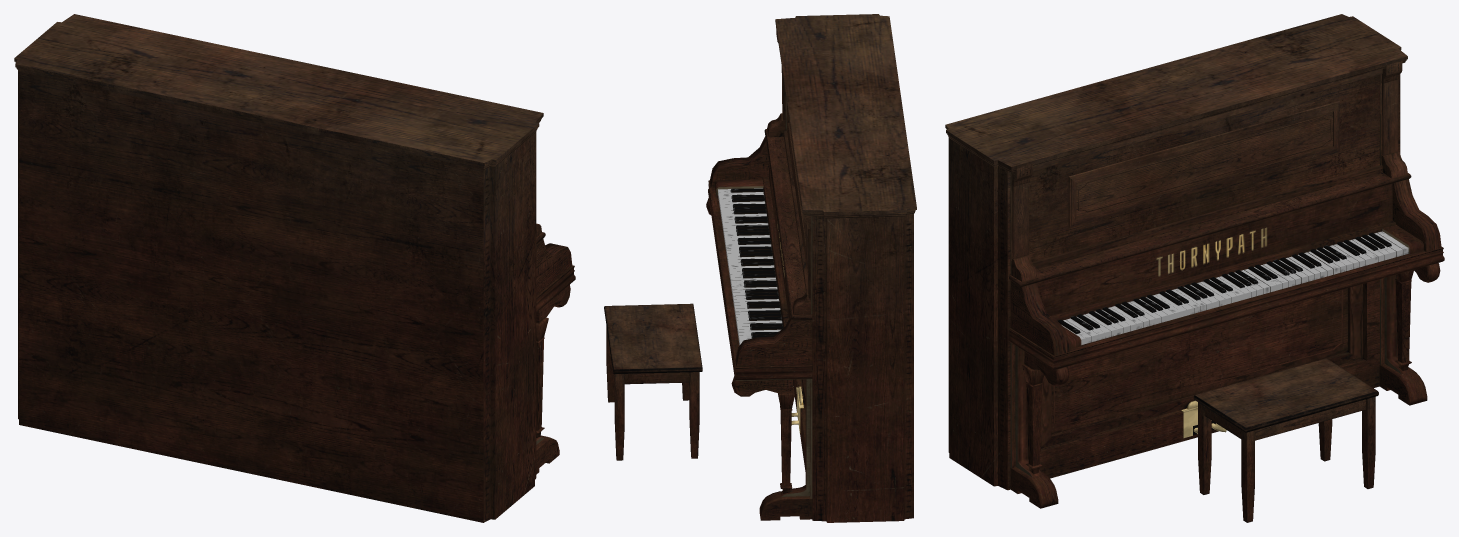
The model's file is Piano.obj.
3 renders of one model, left to right at view 1: azimuth 30°, elevation 25°; view 2: azimuth 150°, elevation 25°; view 3: azimuth 270°, elevation 25°, orthographic. The views are drawn at different scales.
Parts seen in each view (by area): view 1: Piano.002_Piano; view 2: Piano.002_Piano, Piano.002_Piano_Chair; view 3: Piano.002_Piano, Piano.002_Piano_Chair.
Part boxes in pixels (box(x1,y1,x2,y2)): Piano.002_Piano: box(14, 14, 575, 522); Piano.002_Piano: box(706, 14, 916, 522); Piano.002_Piano_Chair: box(604, 303, 702, 460); Piano.002_Piano: box(945, 14, 1444, 508); Piano.002_Piano_Chair: box(1193, 358, 1378, 522).
Size of the model in its own units: 1.88 by 1.56 by 2.15.
Materials: 2 (2 with a texture image).
